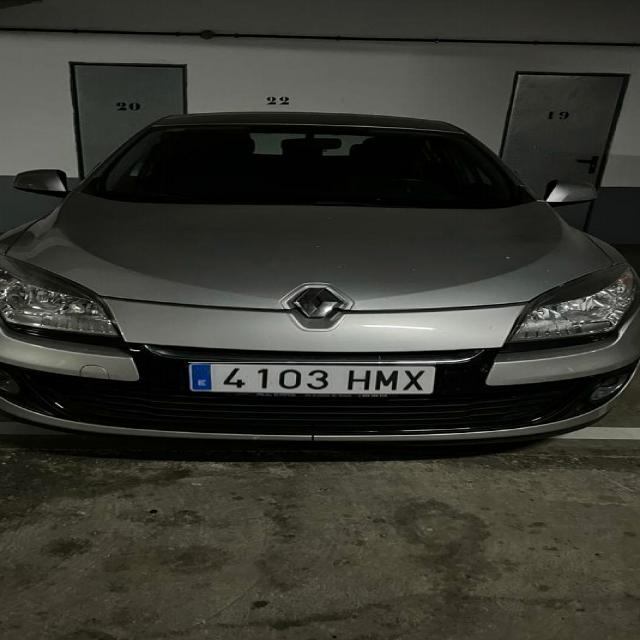License-Plate: (188, 362, 436, 397)
